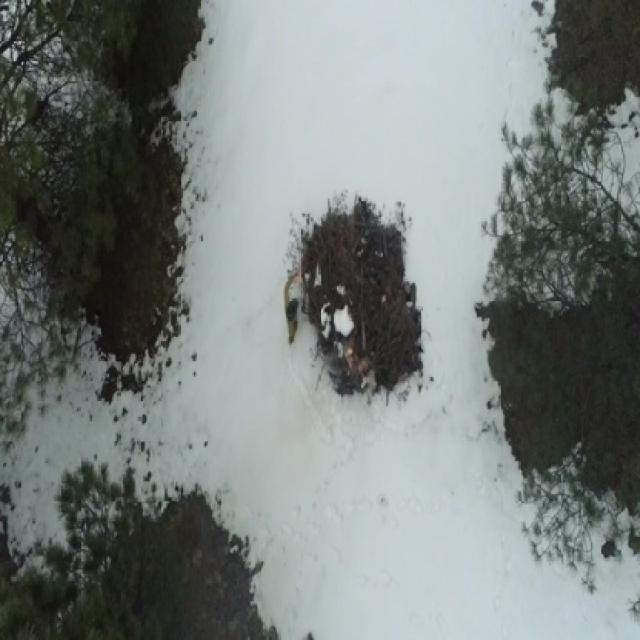Fire: (348, 344, 370, 376)
